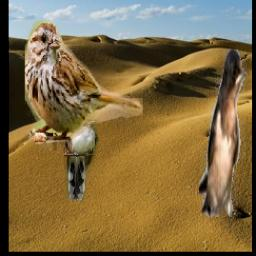Cuckoo: (63, 120, 98, 201)
Sparrow: (25, 20, 143, 151)
Swallow: (199, 51, 246, 218)
